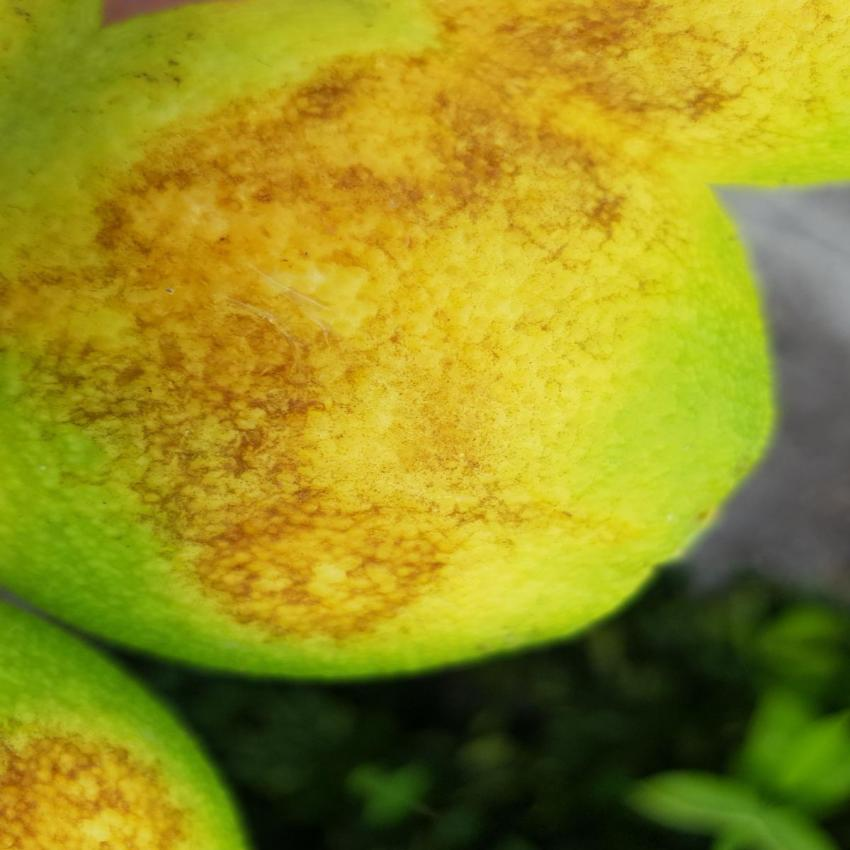Mal estado: (0, 3, 804, 709)
